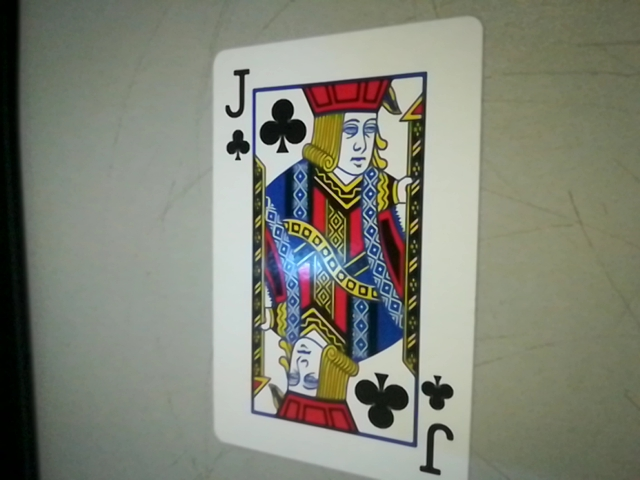mh j: (409, 366, 466, 480)
